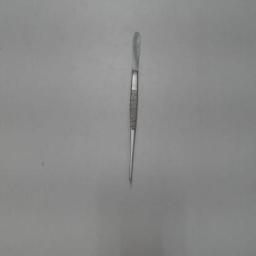Gillies Toothed Dissector: (126, 22, 142, 184)
